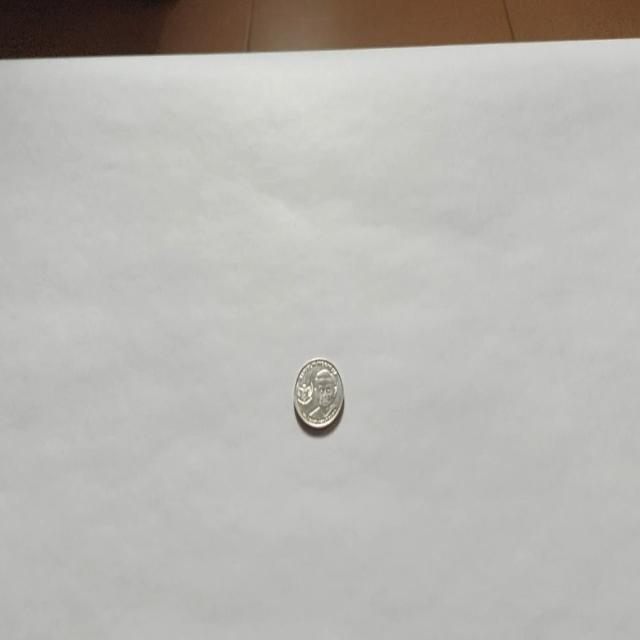seribu rupiah koin: (292, 356, 344, 432)
